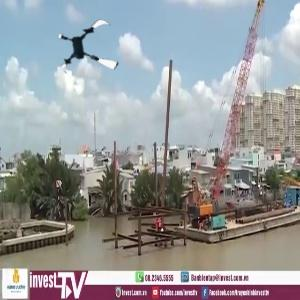drone: (58, 17, 123, 82)
